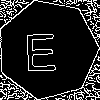E: (22, 24, 58, 72)
